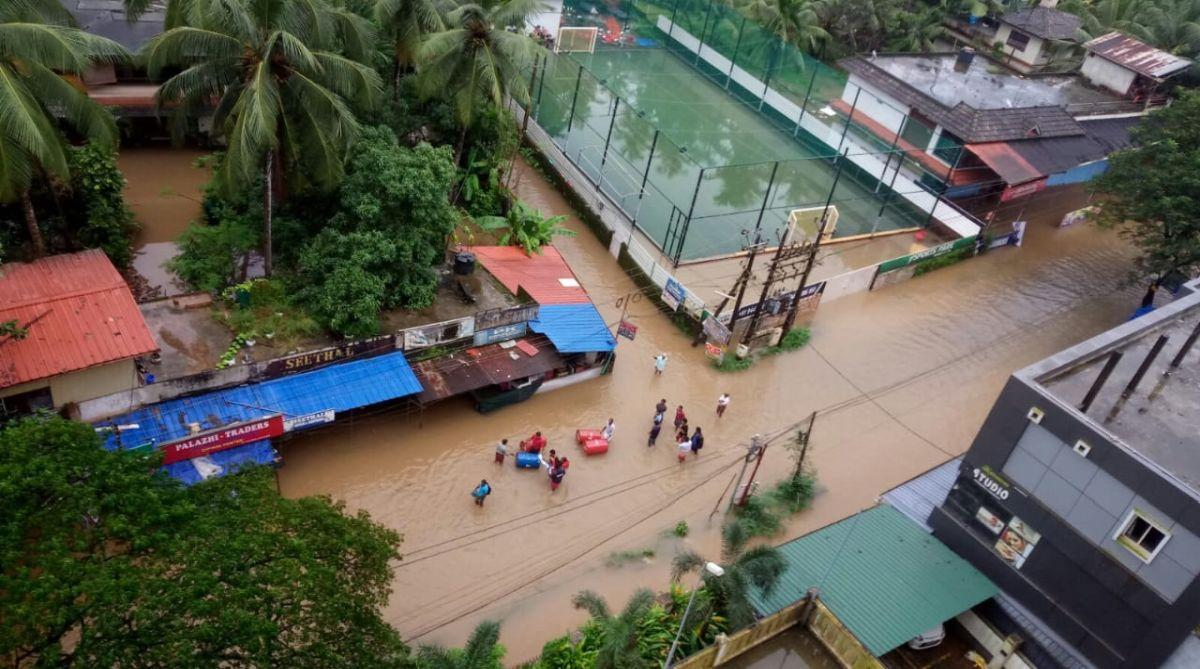victim: (450, 348, 742, 512)
